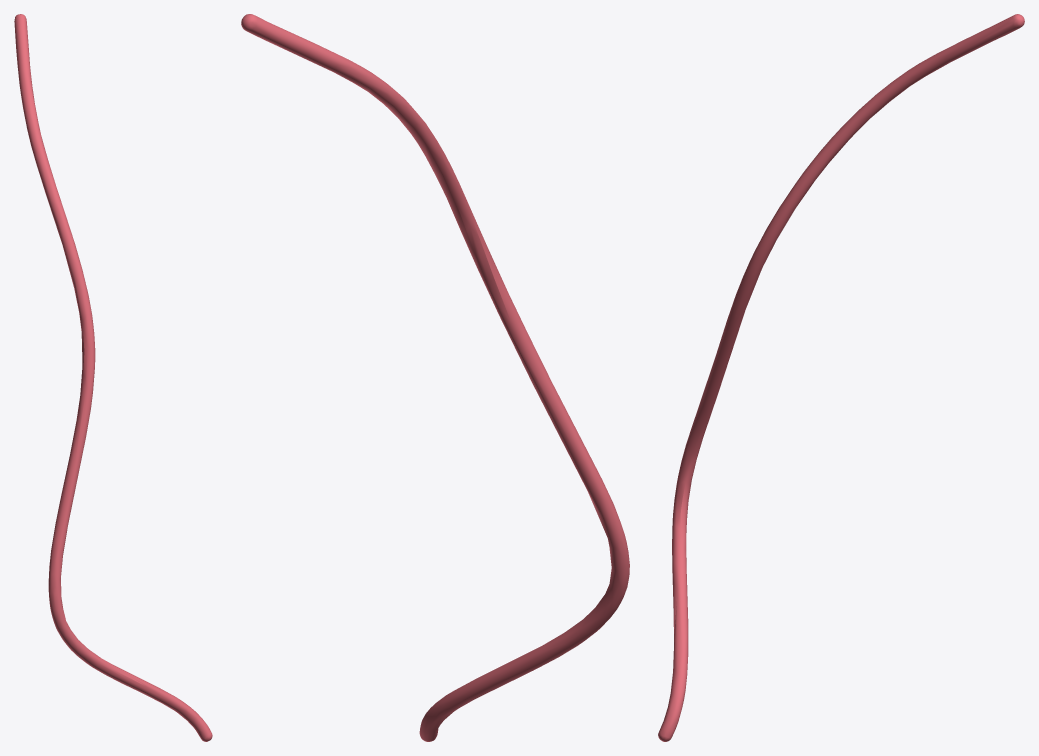
File: fma49498_fj5045.glb
3 renders of one model, left to right at view 1: azimuth 30°, elevation 25°; view 2: azimuth 150°, elevation 25°; view 3: azimuth 270°, elevation 25°, orthographic. The views are drawn at different scales.
Parts seen in each view (by area): view 1: FMA49498_FJ5045; view 2: FMA49498_FJ5045; view 3: FMA49498_FJ5045.
Boxes of the visible parts, box(x1,y1,x2,y2) form: FMA49498_FJ5045: box(14, 14, 212, 741); FMA49498_FJ5045: box(241, 14, 629, 741); FMA49498_FJ5045: box(658, 14, 1024, 741).
Bounding box in the file's own units: 0.0138 × 0.0539 × 0.0253.
